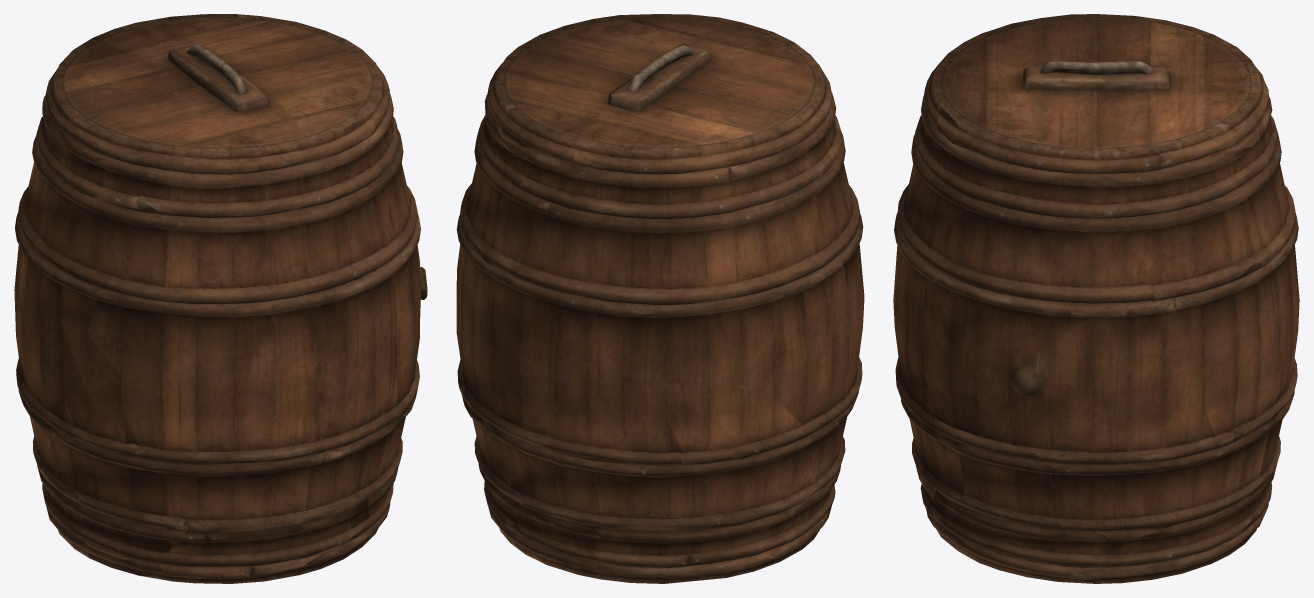
The model's file is barrel_1.gltf.
The picture shows the model from 3 angles, left to right: view 1: azimuth 30°, elevation 25°; view 2: azimuth 150°, elevation 25°; view 3: azimuth 270°, elevation 25°; orthographic projection.
Visible parts, largest first — view 1: barrel_1; view 2: barrel_1; view 3: barrel_1.
Boxes of the visible parts, x1,y1,x2,y2 form: barrel_1: (14,14,427,583); barrel_1: (456,14,864,583); barrel_1: (893,14,1299,583).
Size of the model in its own units: 0.7414 by 0.9158 by 0.7427.
